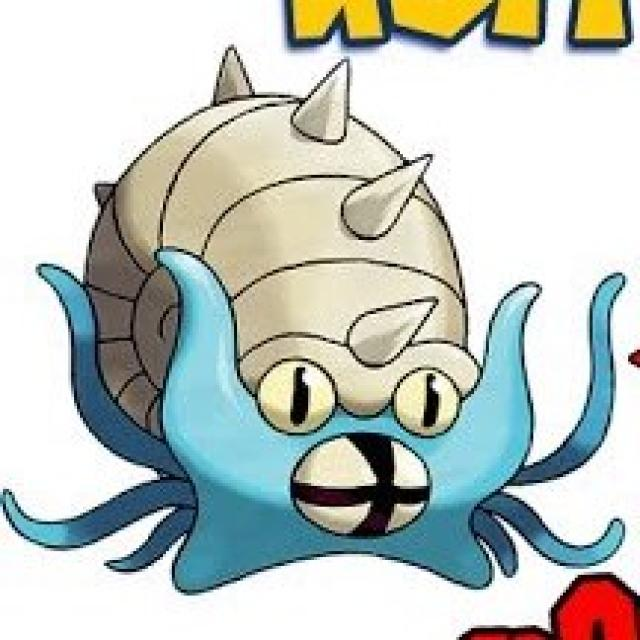Omastar: (67, 54, 537, 582)
